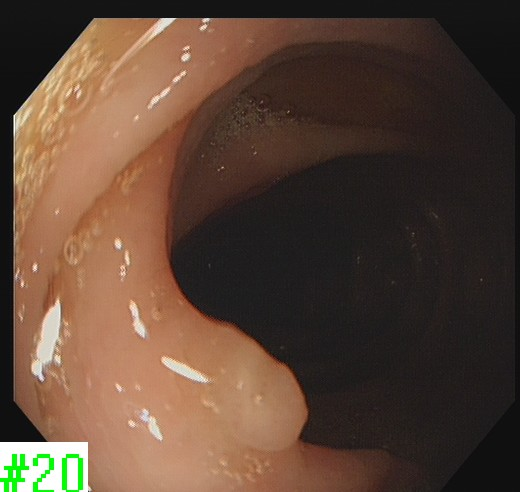adenoma: (200, 318, 312, 453)
